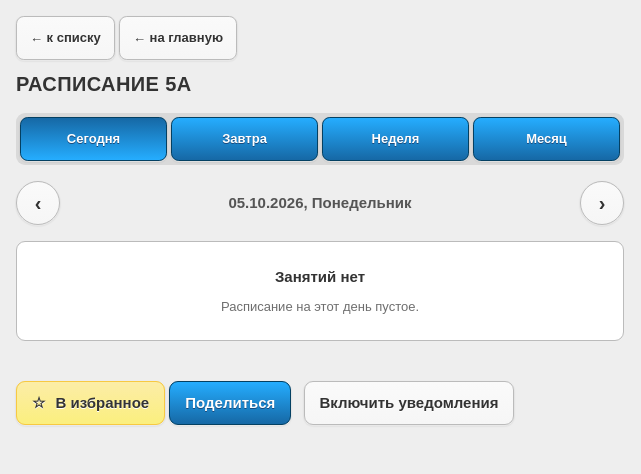
Test: Schedule screen › month calendar › opens the clicked day and notifies the router hook
Click the tab "Месяц": (546, 139) [473,117,620,161]
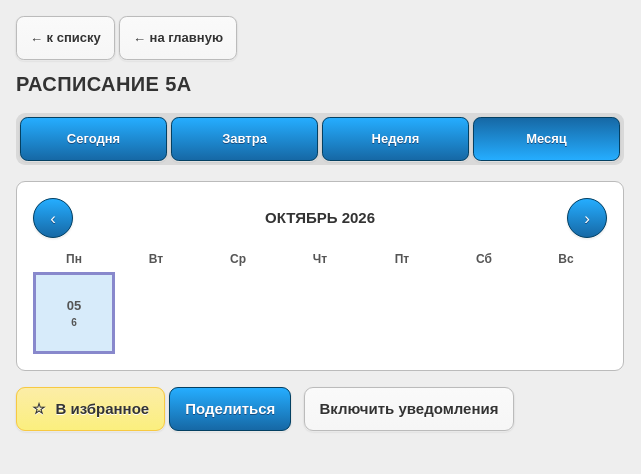
Click the button named "05.10.2026": (74, 313) [33,272,115,354]
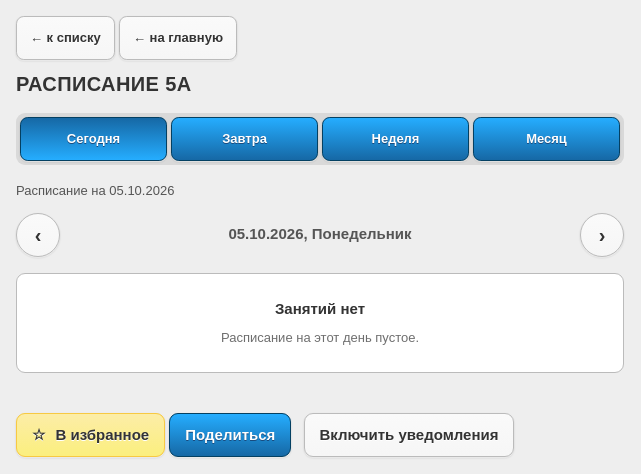
Expected: the text "05.10.2026, Понедельник" is shown, [228,223,412,246]
